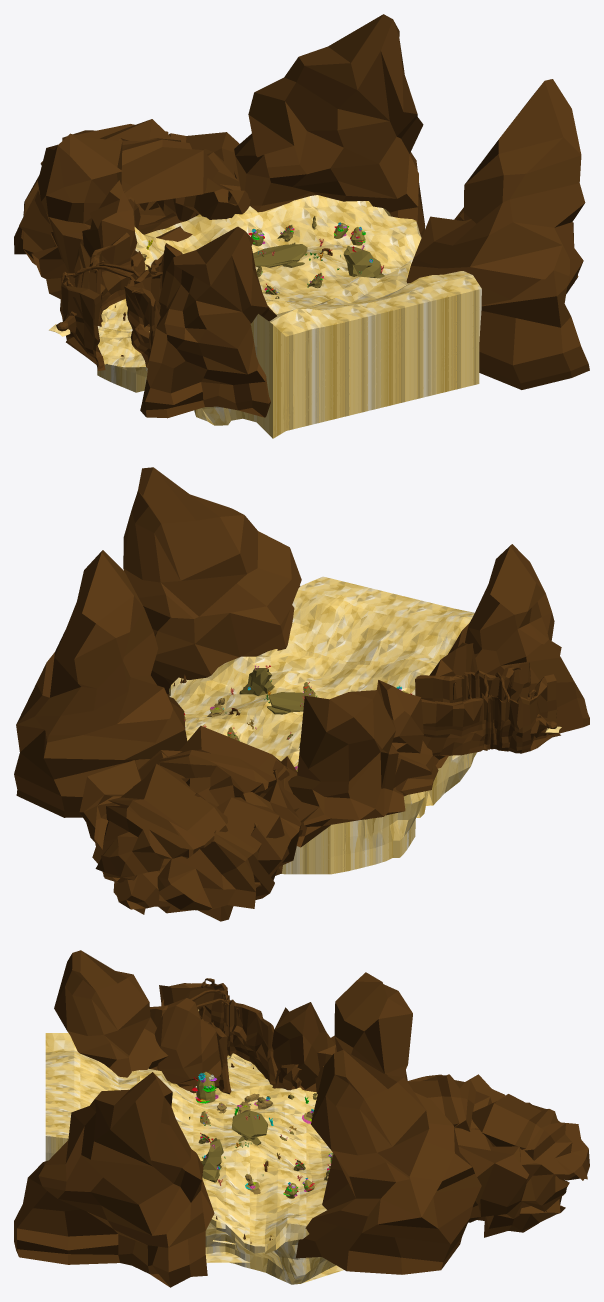
The model's file is causticSeparated reefAndCanyon07.fbx.
3 views of the same model, one above another, from view 1: azimuth 30°, elevation 25°; view 2: azimuth 150°, elevation 25°; view 3: azimuth 270°, elevation 25° (orthographic). The views are drawn at different scales.
Visible parts, largest first — view 1: 0Canyon Whole nonCaustic, 0Canyon Whole; view 2: 0Canyon Whole nonCaustic, 0Canyon Whole; view 3: 0Canyon Whole nonCaustic, 0Canyon Whole.
Boxes of the visible parts, x1,y1,x2,y2 form: 0Canyon Whole nonCaustic: (14,14,589,418); 0Canyon Whole: (97,195,481,438); 0Canyon Whole nonCaustic: (14,467,589,921); 0Canyon Whole: (169,576,476,874); 0Canyon Whole nonCaustic: (14,950,589,1287); 0Canyon Whole: (45,1033,343,1284).
Size of the model in its own units: 590 by 308 by 657.
